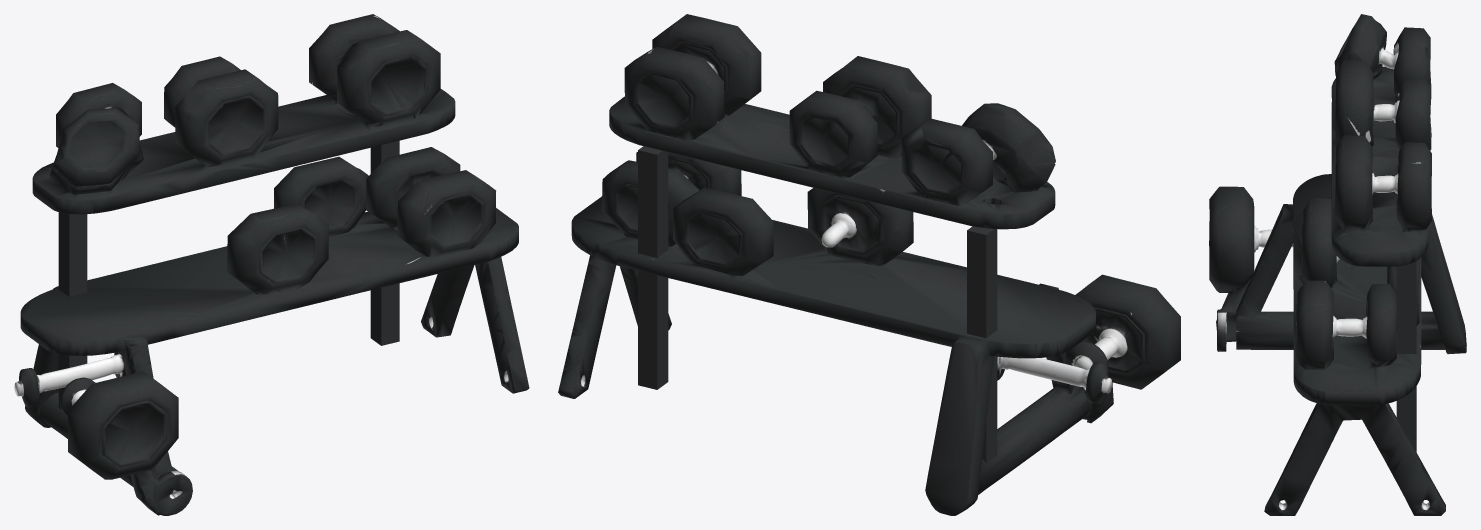
File: dumbbell-rack.glb
3 views of the same model, side by side, from view 1: azimuth 30°, elevation 25°; view 2: azimuth 150°, elevation 25°; view 3: azimuth 270°, elevation 25° (orthographic). The views are drawn at different scales.
Parts seen in each view (by area): view 1: Mesh_0, Rear shelf support, Rear shelf support.001; view 2: Mesh_0, Rear shelf support.001, Rear shelf support; view 3: Mesh_0, Rear shelf support.001.
Part boxes in pixels (x1=…): Mesh_0: x1=14, y1=14, x2=529, y2=515; Rear shelf support: x1=58, y1=212, x2=87, y2=409; Rear shelf support.001: x1=370, y1=140, x2=399, y2=345; Mesh_0: x1=558, y1=14, x2=1180, y2=515; Rear shelf support.001: x1=638, y1=146, x2=668, y2=389; Rear shelf support: x1=967, y1=226, x2=997, y2=463; Mesh_0: x1=1209, y1=14, x2=1466, y2=515; Rear shelf support.001: x1=1396, y1=261, x2=1416, y2=451.
Bounding box in the file's own units: 0.9493 × 0.6495 × 0.4498.
2 materials, 1 textured.
